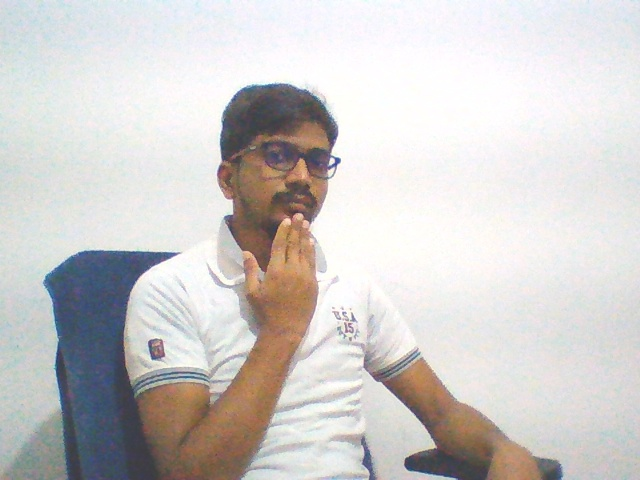mango: (239, 208, 327, 348)
